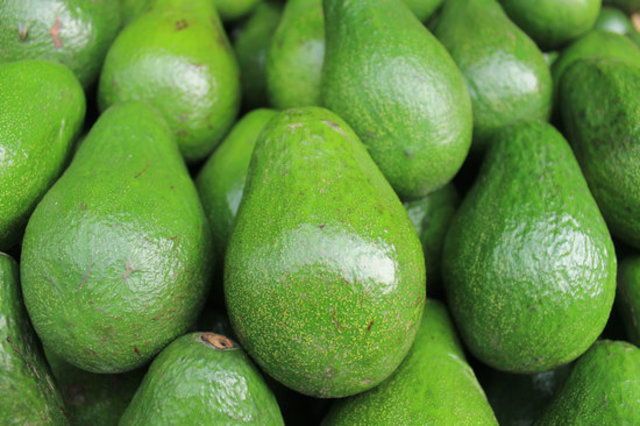avocado: (217, 99, 434, 401), (15, 101, 216, 376), (440, 118, 622, 379)
